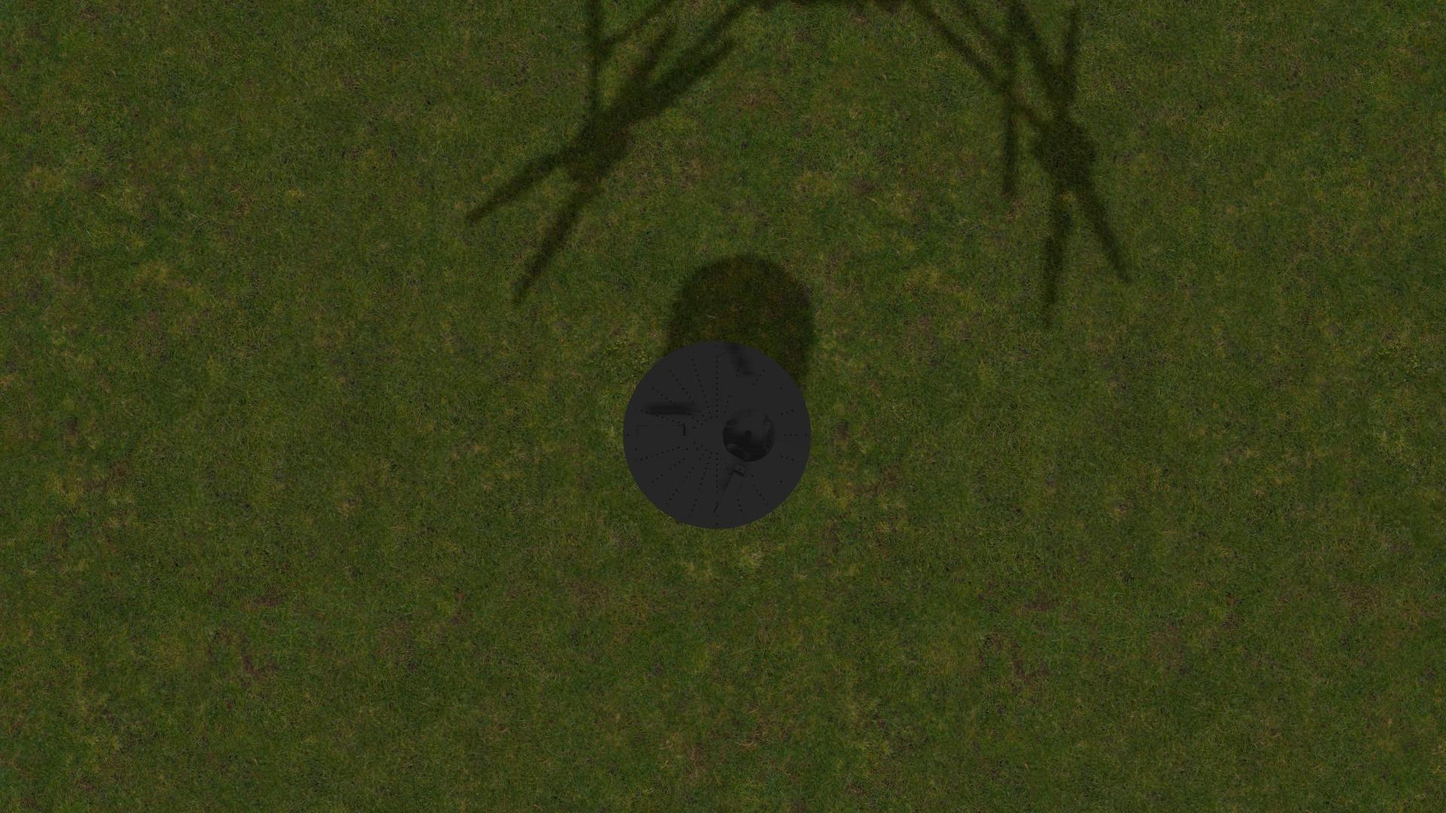alca: (711, 463, 746, 521), (713, 348, 747, 405), (632, 425, 693, 437)
armadilha: (623, 341, 811, 529)
